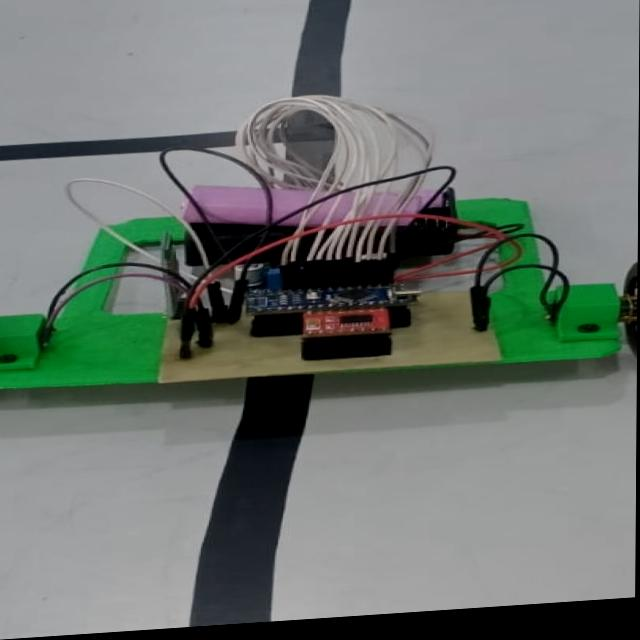vehicle: (0, 82, 639, 400)
